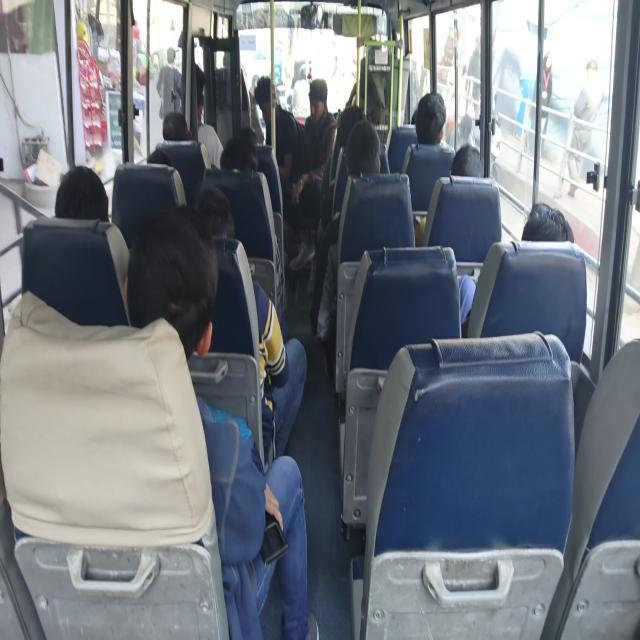person: (140, 240, 210, 340), (185, 198, 237, 260), (50, 180, 113, 228), (522, 193, 579, 245), (343, 137, 380, 188), (174, 72, 208, 117), (352, 33, 390, 72), (212, 37, 242, 77), (304, 87, 331, 131), (453, 147, 485, 180), (222, 150, 254, 180), (417, 108, 444, 142), (342, 105, 368, 137), (160, 112, 184, 145), (250, 92, 278, 120), (233, 126, 259, 154), (143, 147, 171, 169)
